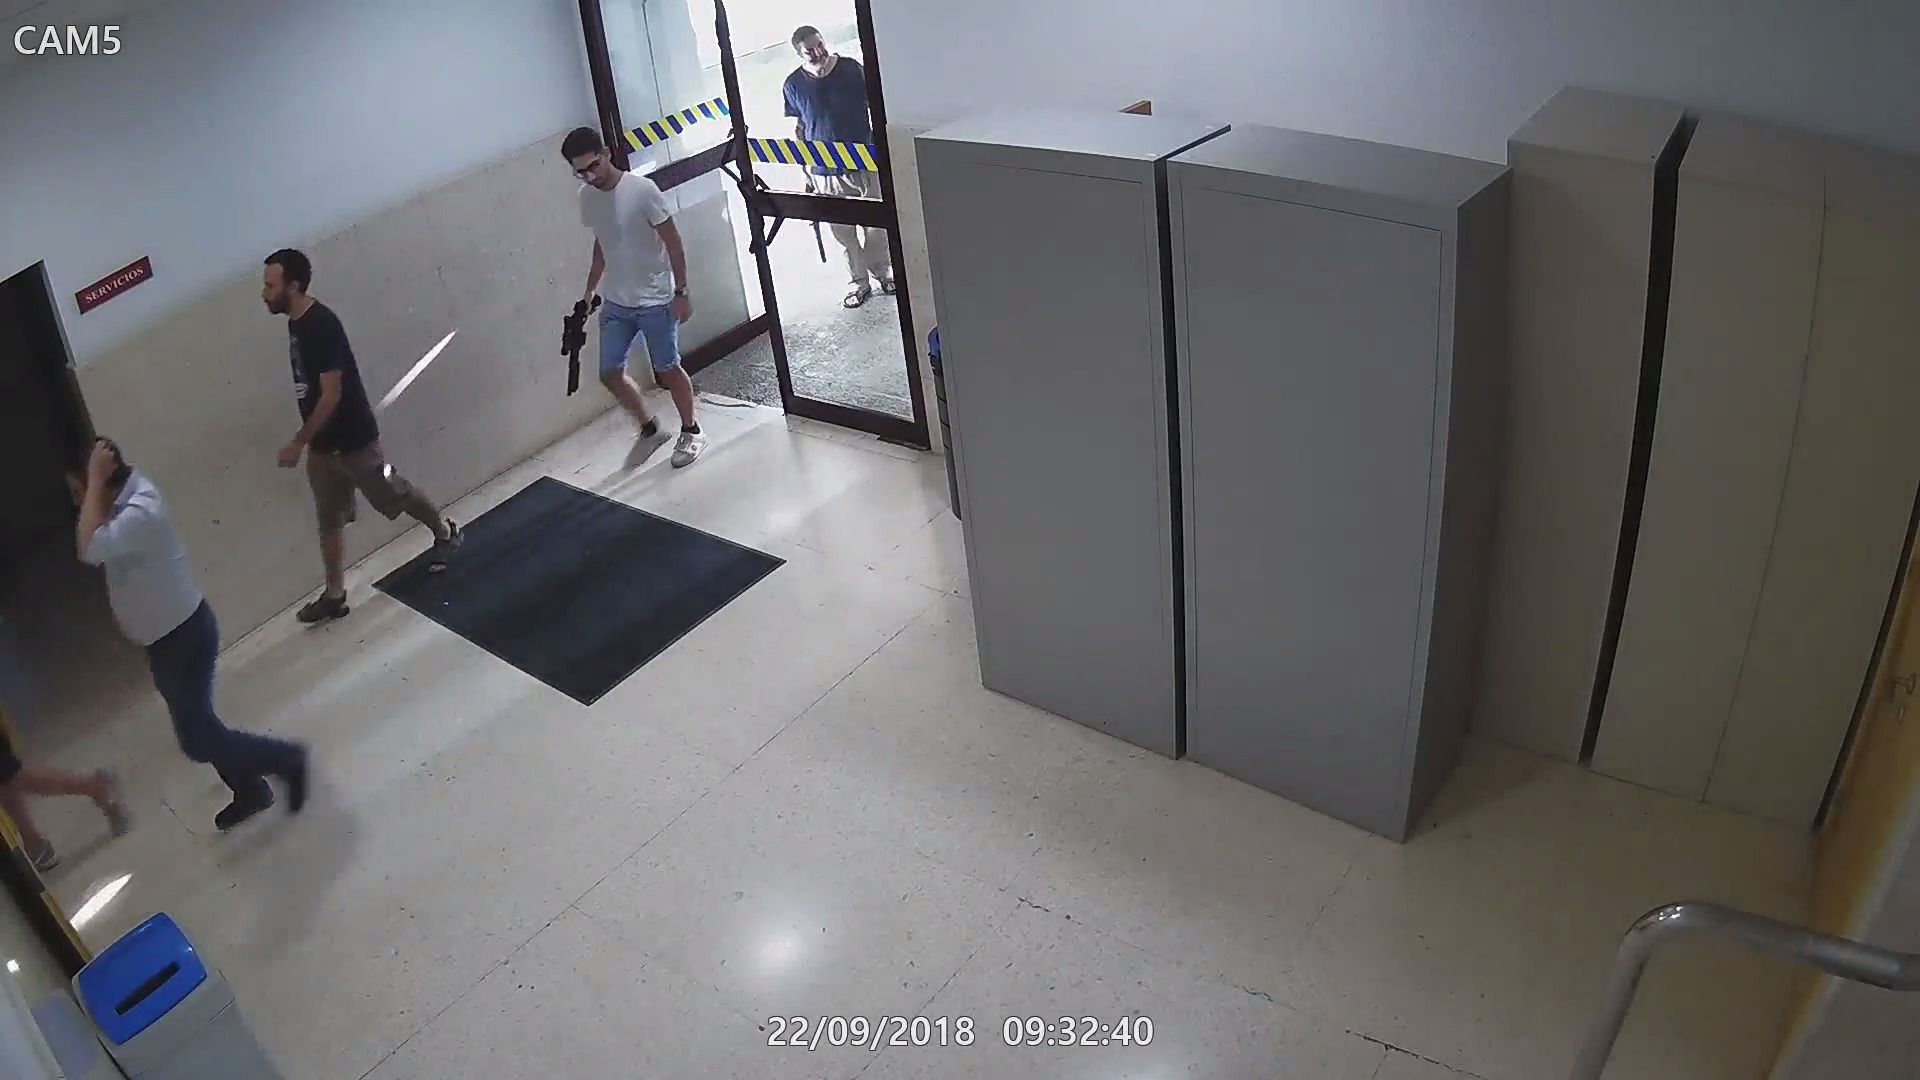Short_rifle: (558, 293, 605, 400), (796, 167, 831, 265)
